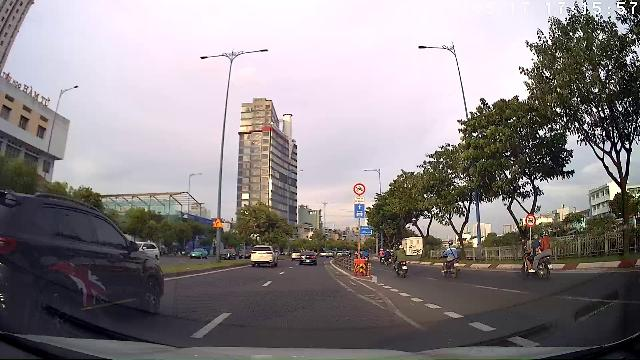103a-cam-oto: (525, 214, 537, 227)
